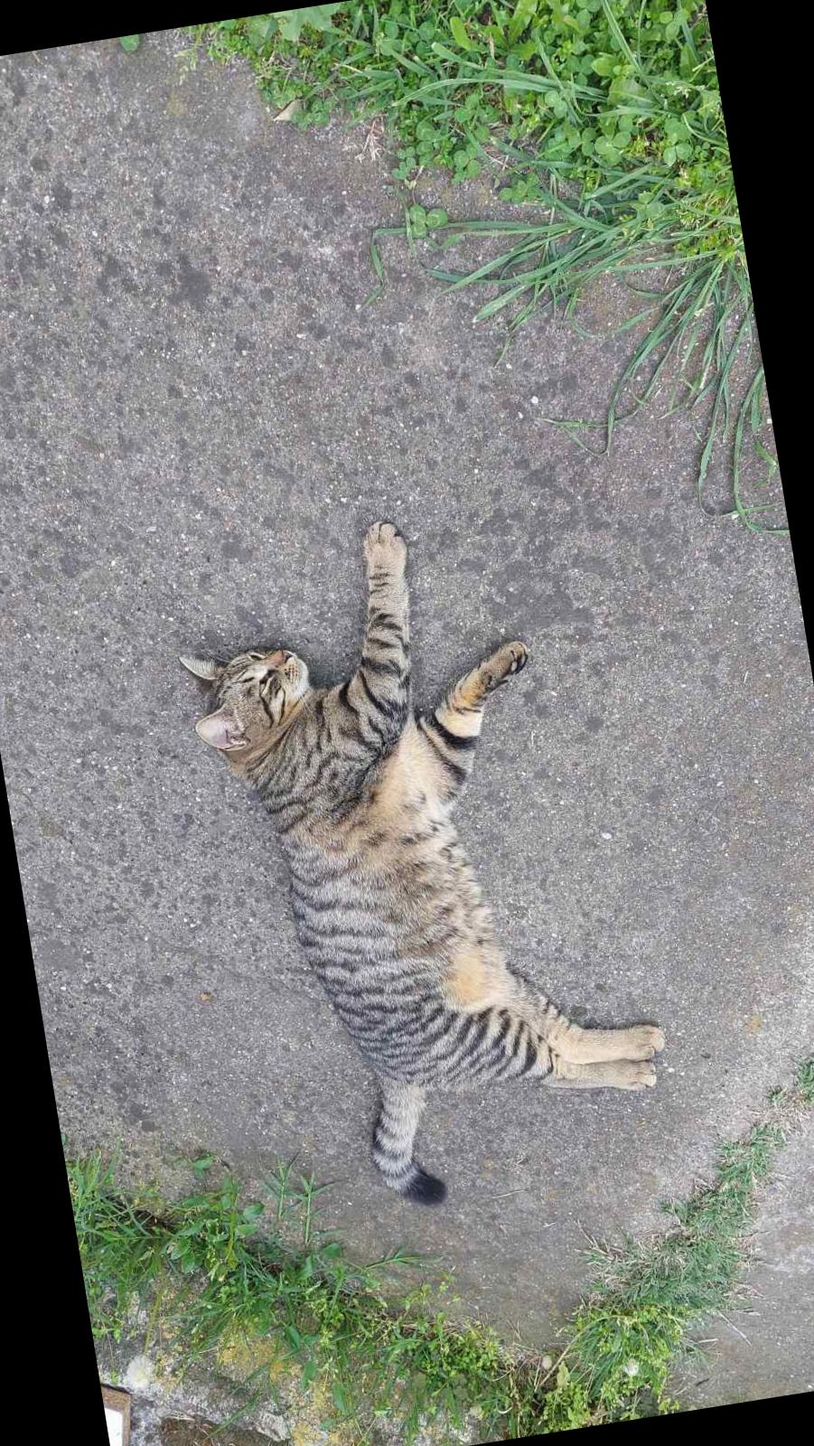macka: (159, 488, 684, 1231)
